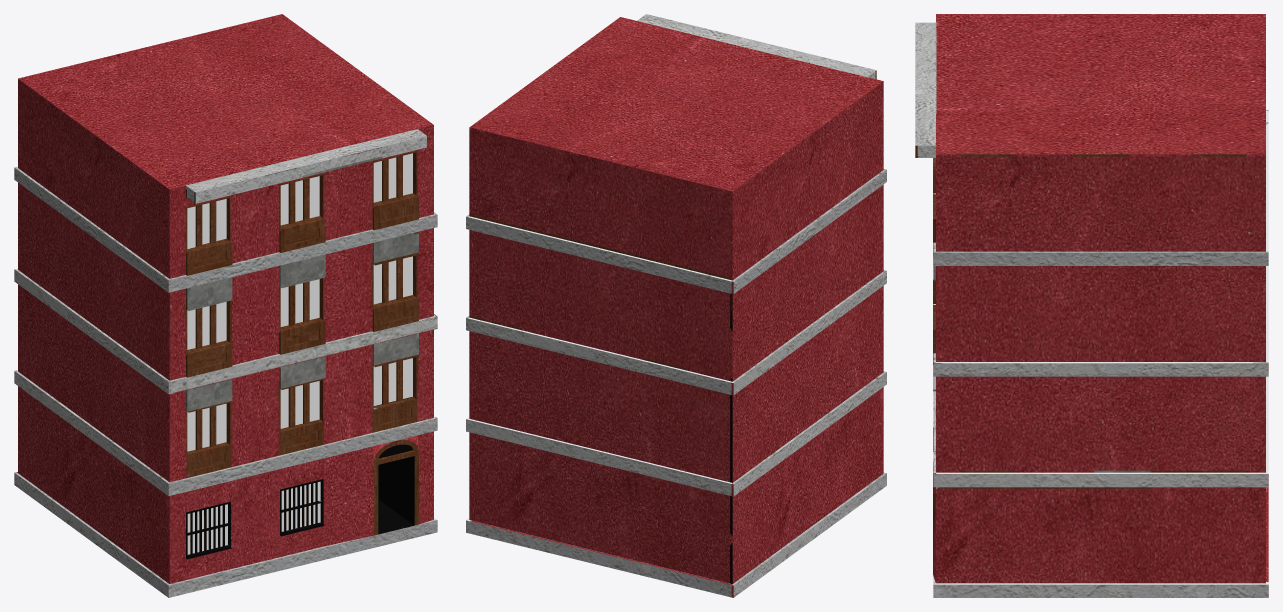
Rendered from CASAGARMANDO.fbx.
3 renders of one model, left to right at view 1: azimuth 30°, elevation 25°; view 2: azimuth 150°, elevation 25°; view 3: azimuth 270°, elevation 25°, orthographic. The views are drawn at different scales.
Visible parts, largest first — view 1: building_005; view 2: building_005; view 3: building_005.
Part boxes in pixels (left/top/right/bottom): building_005: left=14, top=14, right=437, bottom=597; building_005: left=466, top=14, right=886, bottom=597; building_005: left=915, top=14, right=1268, bottom=597.
Bounding box in the file's own units: 614 × 888 × 643.
